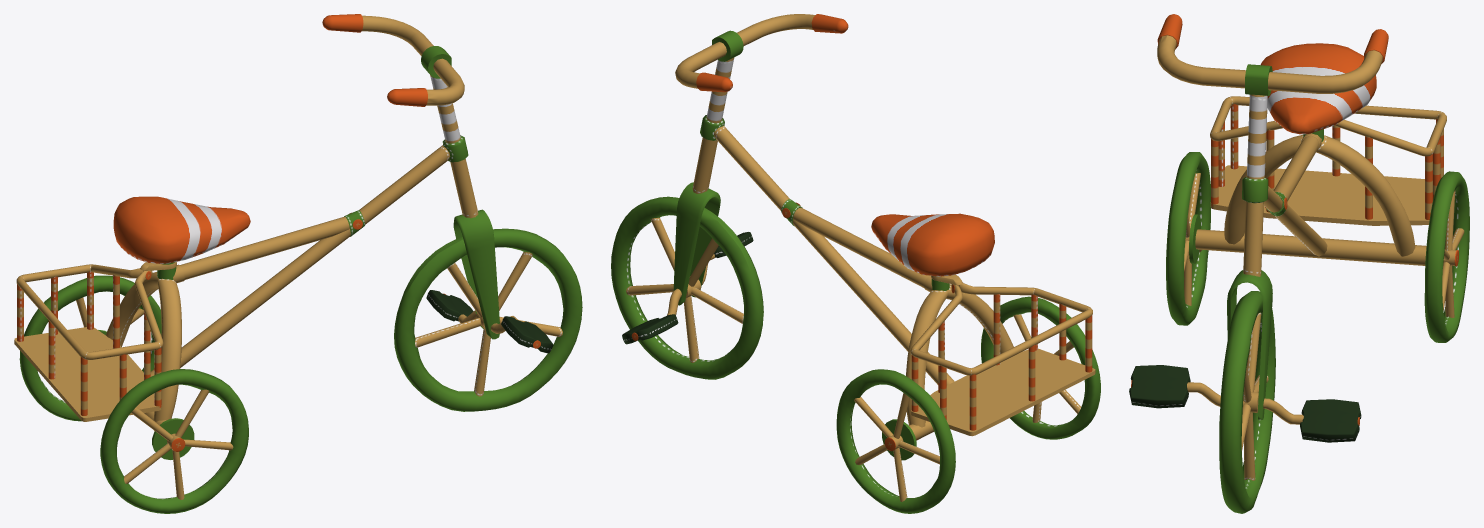
Rendered from triciclo.glb.
3 views of the same model, side by side, from view 1: azimuth 30°, elevation 25°; view 2: azimuth 150°, elevation 25°; view 3: azimuth 270°, elevation 25° (orthographic). The views are drawn at different scales.
Parts seen in each view (by area): view 1: node_id30; view 2: node_id30; view 3: node_id30.
Part boxes in pixels (<box>): node_id30: <box>14,14,582,513</box>; node_id30: <box>611,14,1100,513</box>; node_id30: <box>1129,14,1469,513</box>.
Size of the model in its own units: 0.714 by 0.512 by 0.3769.
1 material, 1 textured.
